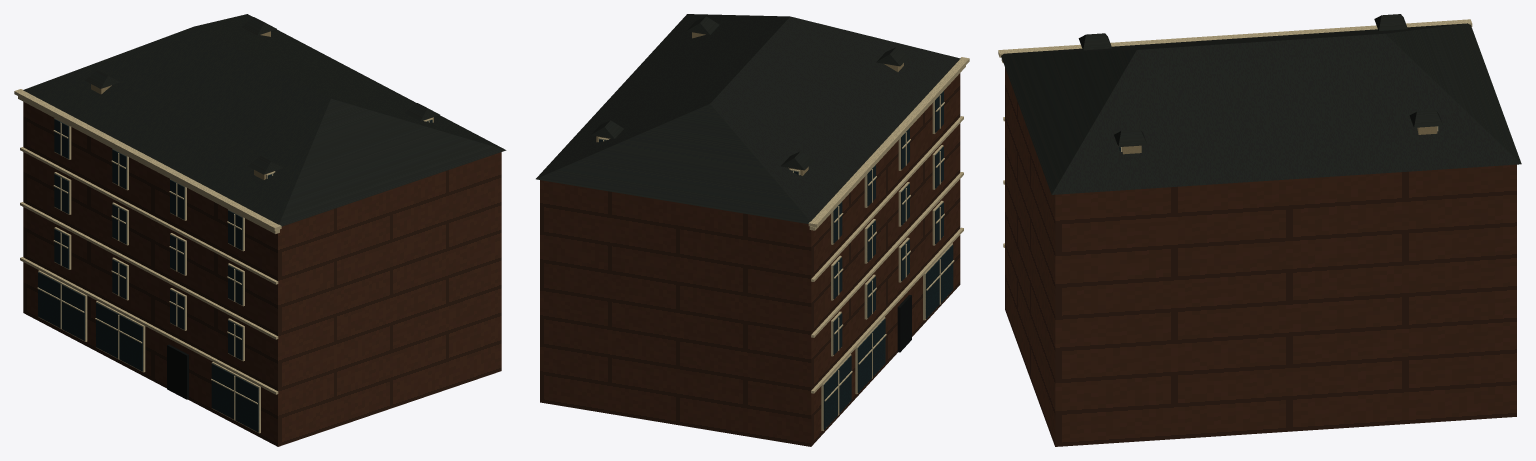
3 views of the same model, side by side, from view 1: azimuth 30°, elevation 25°; view 2: azimuth 150°, elevation 25°; view 3: azimuth 270°, elevation 25° (orthographic). The views are drawn at different scales.
Visible parts, largest first — view 1: amsterdamsche-bank-oostplein-0, amsterdamsche-bank-oostplein-1, amsterdamsche-bank-oostplein-3, amsterdamsche-bank-oostplein-2, amsterdamsche-bank-oostplein-4; view 2: amsterdamsche-bank-oostplein-0, amsterdamsche-bank-oostplein-1, amsterdamsche-bank-oostplein-2, amsterdamsche-bank-oostplein-3, amsterdamsche-bank-oostplein-4; view 3: amsterdamsche-bank-oostplein-0, amsterdamsche-bank-oostplein-1, amsterdamsche-bank-oostplein-2.
Boxes of the visible parts, x1,y1,x2,y2 form: amsterdamsche-bank-oostplein-0: (23,102,501,446); amsterdamsche-bank-oostplein-1: (23,14,506,226); amsterdamsche-bank-oostplein-3: (38,119,432,432); amsterdamsche-bank-oostplein-2: (14,89,432,433); amsterdamsche-bank-oostplein-4: (167,344,188,399); amsterdamsche-bank-oostplein-0: (540,73,960,446); amsterdamsche-bank-oostplein-1: (536,14,960,223); amsterdamsche-bank-oostplein-2: (598,57,969,430); amsterdamsche-bank-oostplein-3: (599,91,953,429); amsterdamsche-bank-oostplein-4: (897,294,911,352); amsterdamsche-bank-oostplein-0: (1005,68,1516,446); amsterdamsche-bank-oostplein-1: (1001,14,1521,194); amsterdamsche-bank-oostplein-2: (998,19,1472,247).
Bounding box in the file's own units: 24.97 × 21.5 × 31.76.
6 materials, 6 textured.
